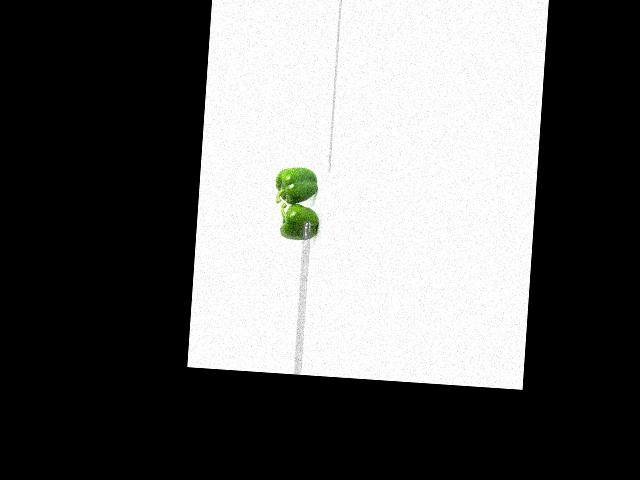bell_pepper: (271, 165, 324, 205)
